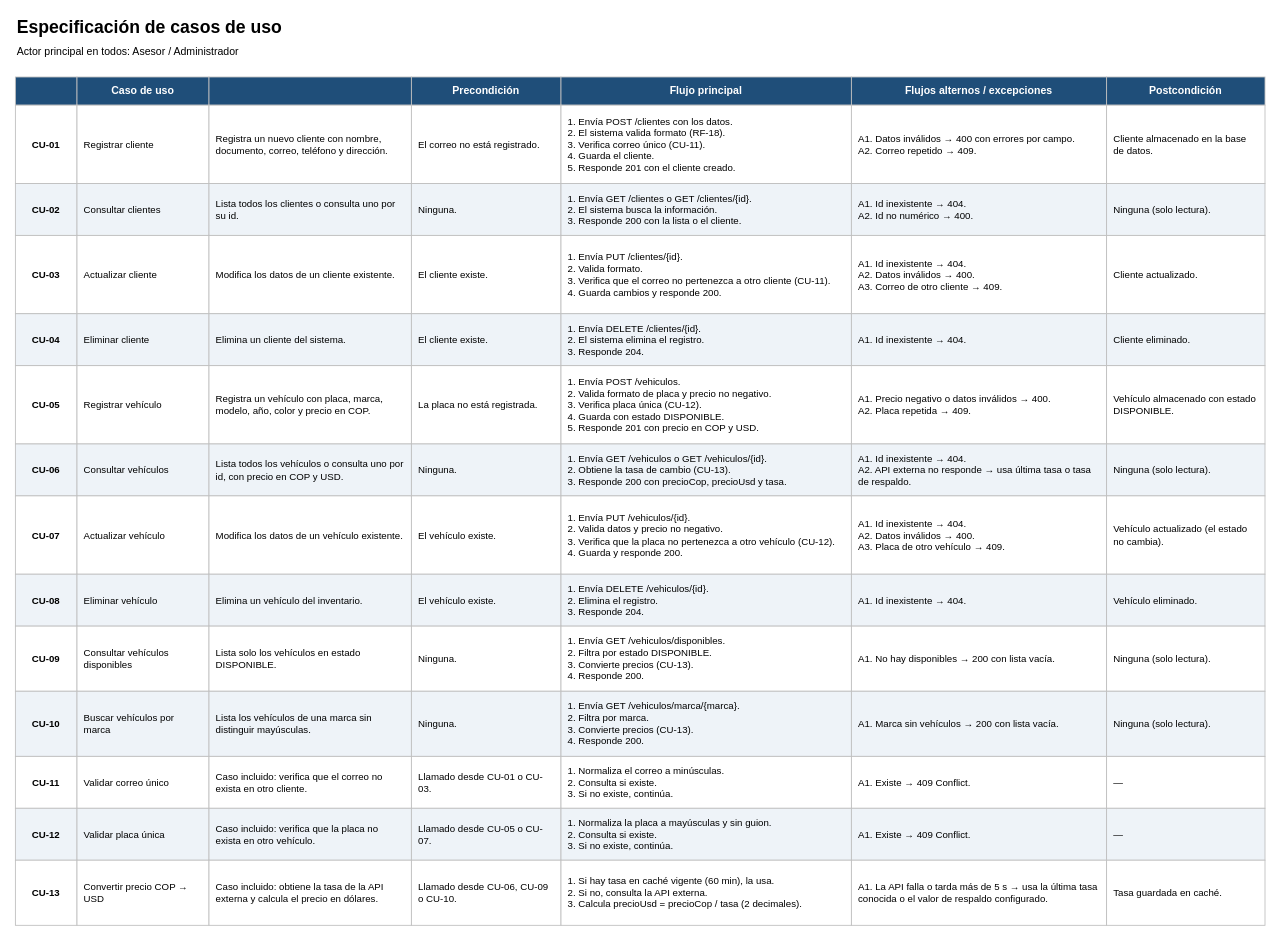
This 1280x941 diagram has some shape labels left out. The centre of each missing label's shape, as x and y in pixels:
"Descripción" belongs at (309,90).
"ID" belongs at (46,90).
